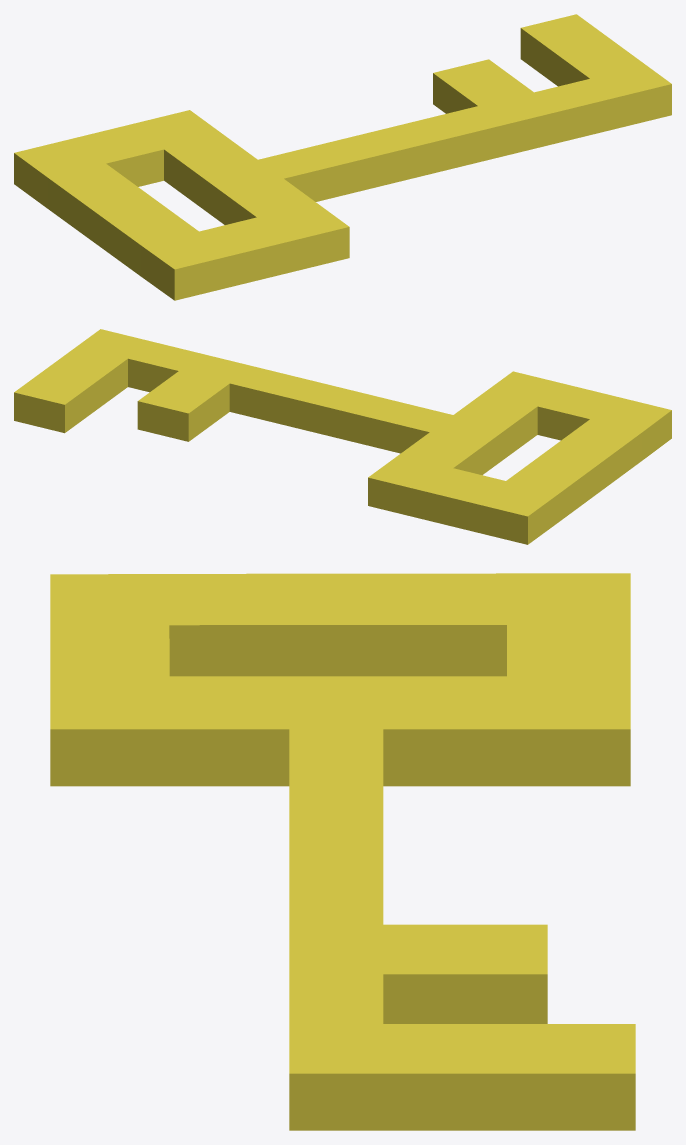
Rendered from Key.fbx.
3 views of the same model, one above another, from view 1: azimuth 30°, elevation 25°; view 2: azimuth 150°, elevation 25°; view 3: azimuth 270°, elevation 25° (orthographic). The views are drawn at different scales.
Parts seen in each view (by area): view 1: Cube; view 2: Cube; view 3: Cube.
Boxes of the visible parts, box(x1,y1,x2,y2) form: Cube: box(14, 14, 671, 300); Cube: box(14, 329, 671, 544); Cube: box(50, 573, 635, 1130).
Bounding box in the file's own units: 755 × 40 × 374.
